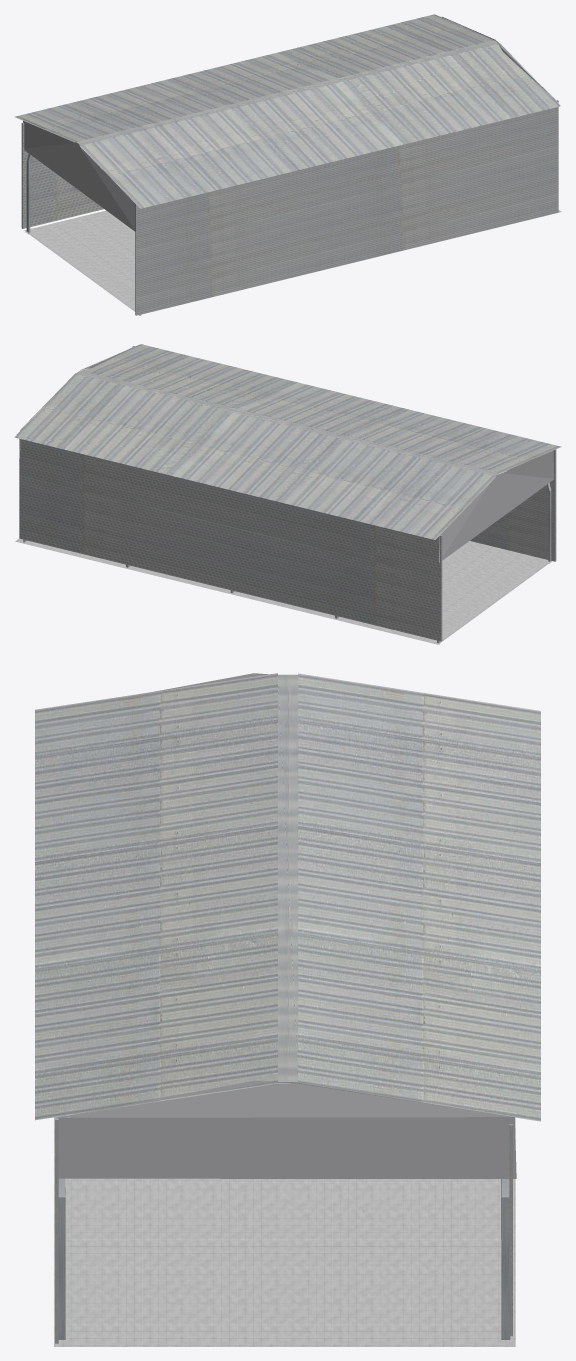
Rendered from Hangar.0.5.gltf.
3 views of the same model, one above another, from view 1: azimuth 30°, elevation 25°; view 2: azimuth 150°, elevation 25°; view 3: azimuth 270°, elevation 25° (orthographic). The views are drawn at different scales.
Parts seen in each view (by area): view 1: Cube.031, Plane.002, Plane, Plane.001, Cube.030, Cube.028, Plane.003; view 2: Cube.028, Plane, Plane.002, Plane.001, Cube.030, Cube.031, Plane.003; view 3: Plane, Plane.002, Plane.001, Cube.029, Plane.003, Cube.022, Cube.005, Cube.031, Cube.028.
Boxes of the visible parts, x1=… form: Cube.031: x1=135, y1=100, x2=558, y2=315; Plane.002: x1=80, y1=43, x2=560, y2=208; Plane: x1=14, y1=14, x2=493, y2=142; Plane.001: x1=24, y1=210, x2=561, y2=314; Cube.030: x1=23, y1=119, x2=135, y2=231; Cube.028: x1=21, y1=122, x2=103, y2=228; Plane.003: x1=76, y1=40, x2=499, y2=145; Cube.028: x1=19, y1=439, x2=442, y2=641; Plane: x1=14, y1=374, x2=495, y2=539; Plane.002: x1=80, y1=344, x2=561, y2=472; Plane.001: x1=15, y1=538, x2=551, y2=644; Cube.030: x1=439, y1=451, x2=554, y2=562; Cube.031: x1=132, y1=346, x2=556, y2=561; Plane.003: x1=76, y1=371, x2=499, y2=476; Plane: x1=298, y1=673, x2=540, y2=1121; Plane.002: x1=35, y1=673, x2=277, y2=1120; Plane.001: x1=54, y1=1114, x2=515, y2=1346; Cube.029: x1=57, y1=1080, x2=516, y2=1178; Plane.003: x1=278, y1=674, x2=298, y2=1083; Cube.022: x1=501, y1=1196, x2=510, y2=1339; Cube.005: x1=58, y1=1196, x2=65, y2=1339; Cube.031: x1=55, y1=1117, x2=58, y2=1343; Cube.028: x1=509, y1=1124, x2=512, y2=1336.
Bounding box in the file's own units: 22.27 × 6.49 × 11.39.
Materials: 46 (34 with a texture image).
